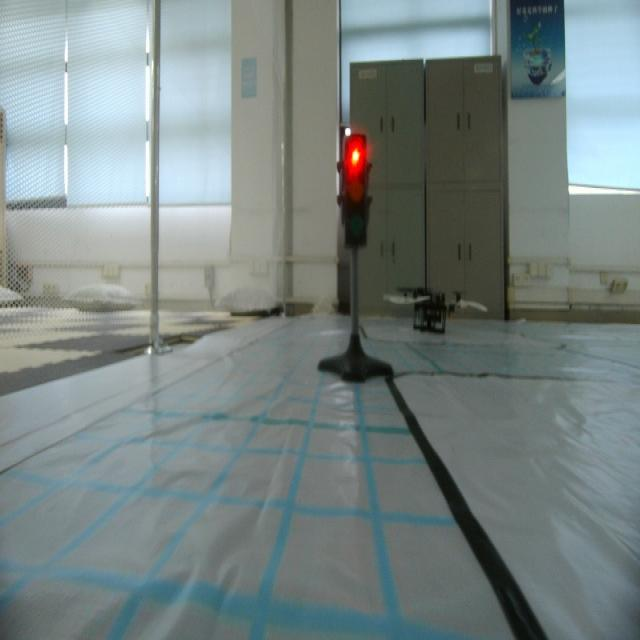red: (338, 134, 372, 256)
